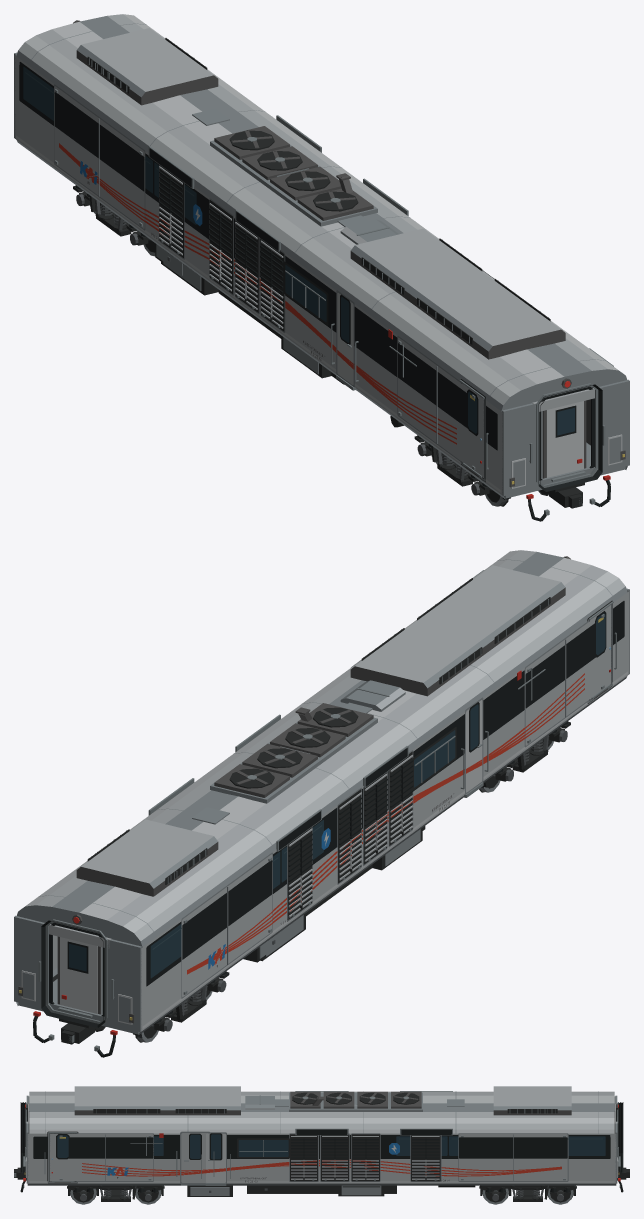
Rendered from ssng-support-medium-packed.glb.
3 renders of one model, top to bottom at view 1: azimuth 30°, elevation 25°; view 2: azimuth 150°, elevation 25°; view 3: azimuth 270°, elevation 25°, orthographic. The views are drawn at different scales.
Visible parts, largest first — view 1: passenger-body (×2), rail-bogie-1, rail-bogie--1, passenger-door--1-1; view 2: passenger-body (×2), rail-bogie--1, rail-bogie-1, passenger-door--1-1; view 3: passenger-body (×2), rail-bogie-1, rail-bogie--1, passenger-door-1-1, rail-wheel-3, rail-wheel-5, rail-wheel-7, rail-wheel-1.
Part boxes in pixels (x1=…): passenger-body (×2): x1=14, y1=14, x2=629, y2=521; rail-bogie-1: x1=414, y1=435, x2=510, y2=499; rail-bogie--1: x1=73, y1=185, x2=148, y2=245; passenger-door--1-1: x1=462, y1=383, x2=483, y2=477; passenger-body (×2): x1=14, y1=550, x2=629, y2=1057; rail-bogie--1: x1=133, y1=971, x2=229, y2=1035; rail-bogie-1: x1=495, y1=721, x2=570, y2=781; passenger-door--1-1: x1=590, y1=605, x2=611, y2=699; passenger-body (×2): x1=17, y1=1086, x2=626, y2=1196; rail-bogie-1: x1=67, y1=1185, x2=164, y2=1201; rail-bogie--1: x1=479, y1=1185, x2=576, y2=1201; passenger-door-1-1: x1=49, y1=1133, x2=75, y2=1181; rail-wheel-3: x1=482, y1=1188, x2=508, y2=1204; rail-wheel-5: x1=135, y1=1188, x2=161, y2=1204; rail-wheel-7: x1=70, y1=1188, x2=96, y2=1204; rail-wheel-1: x1=547, y1=1188, x2=573, y2=1204.
Bounding box in the file's own units: 3.02 × 3.8 × 20.04.
